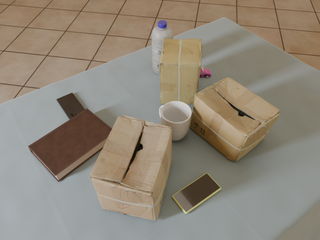book: (28, 109, 112, 182)
bottle: (152, 20, 173, 74)
box: (90, 115, 172, 221), (190, 77, 280, 161), (159, 38, 202, 105)
cup: (159, 101, 192, 141)
phone: (172, 173, 221, 214), (57, 93, 85, 119)
toy_car: (200, 67, 211, 78)
